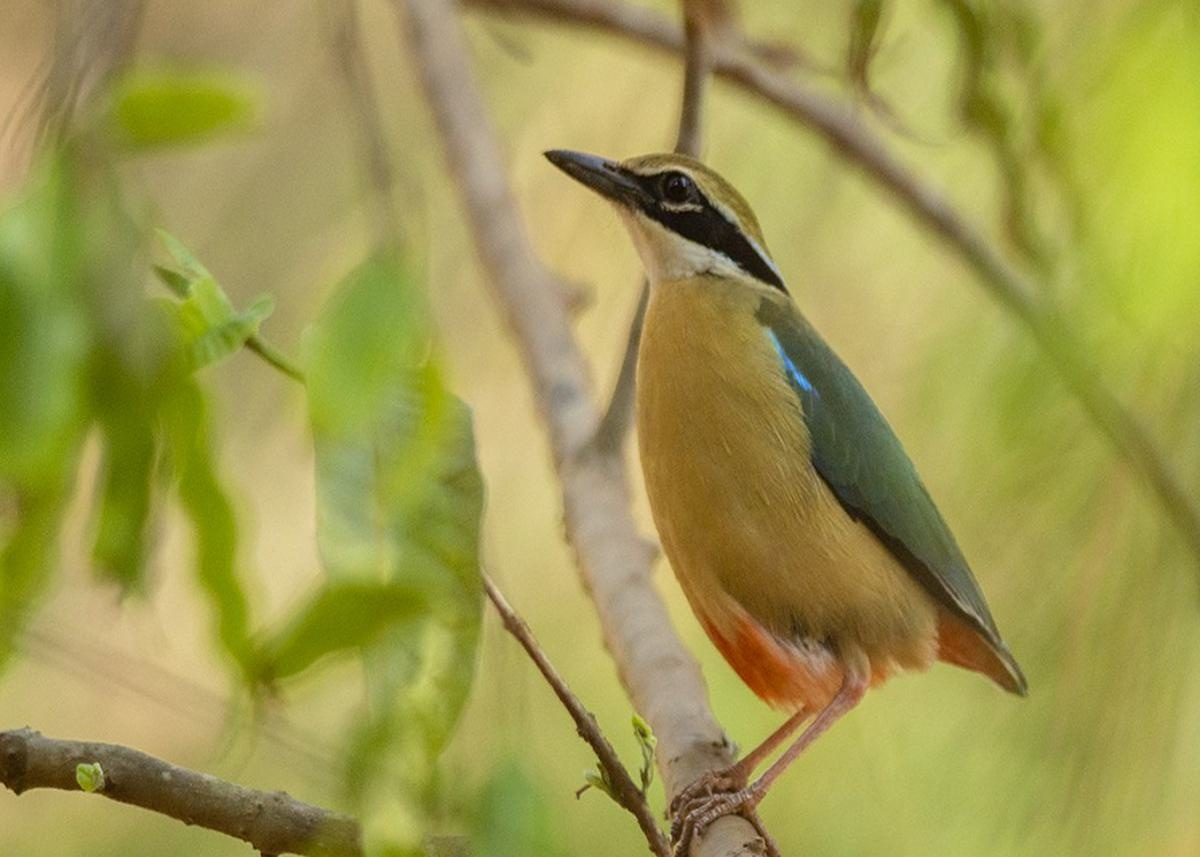pitta: (547, 132, 1028, 780)
